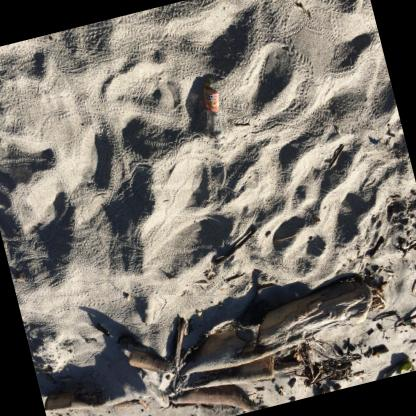Plastic: (202, 76, 224, 144)
